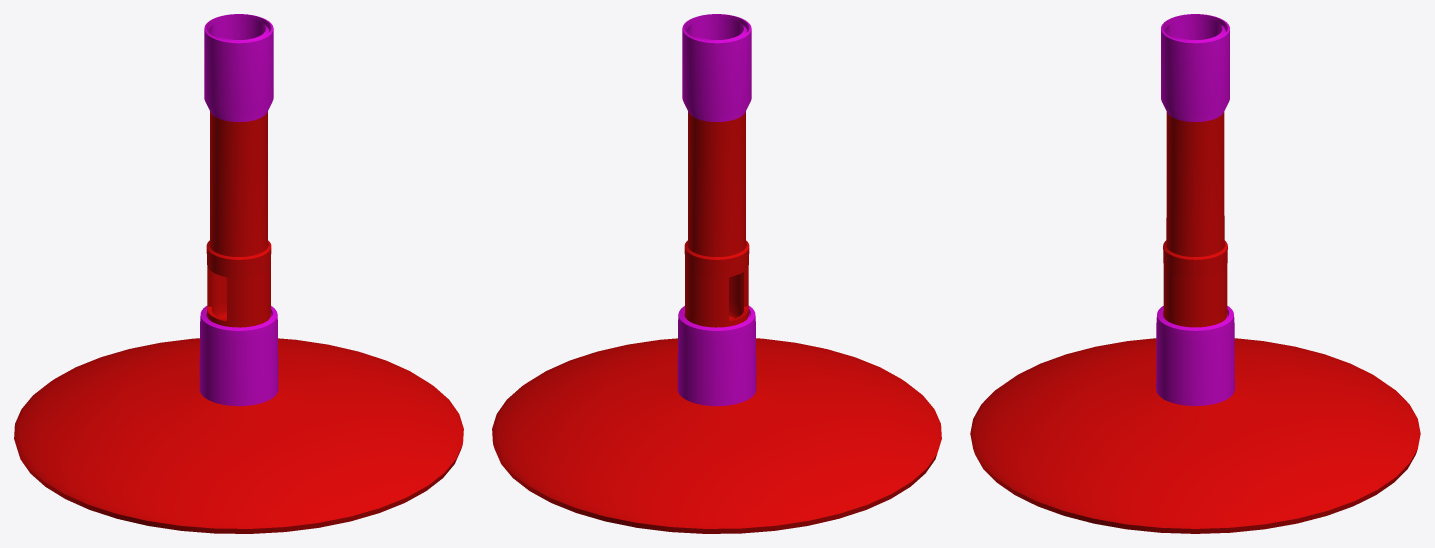
The model's file is Bunsen.fbx.
3 views of the same model, side by side, from view 1: azimuth 30°, elevation 25°; view 2: azimuth 150°, elevation 25°; view 3: azimuth 270°, elevation 25° (orthographic).
Parts seen in each view (by area): view 1: pSphere4; view 2: pSphere4; view 3: pSphere4.
Boxes of the visible parts, x1,y1,x2,y2 form: pSphere4: [14, 14, 463, 533]; pSphere4: [492, 14, 941, 533]; pSphere4: [970, 14, 1420, 533].
Size of the model in its own units: 135 by 137 by 135.
